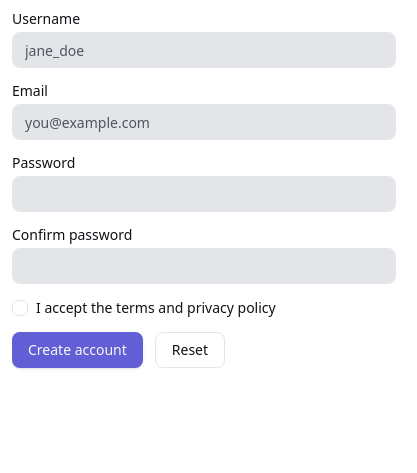
<SignUpFormShowcase /> › surfaces zod validation messages on an empty submit
Click the button "Create account" at (77, 350), box [12,332,143,368]
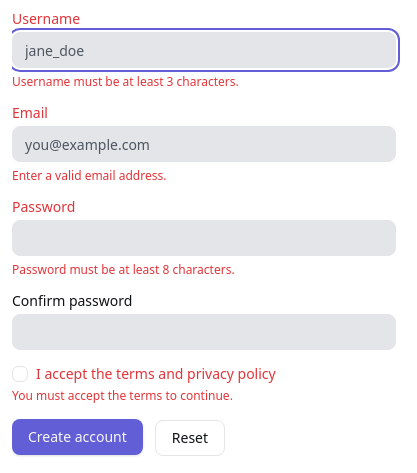
expect the text "Enter a valid email address." is shown: met, box [12,167,166,184]
expect the text "Username must be at least 3 characters." is shown: met, box [12,73,239,90]
expect the text "You must accept the terms to continue." is shown: met, box [12,387,233,404]
